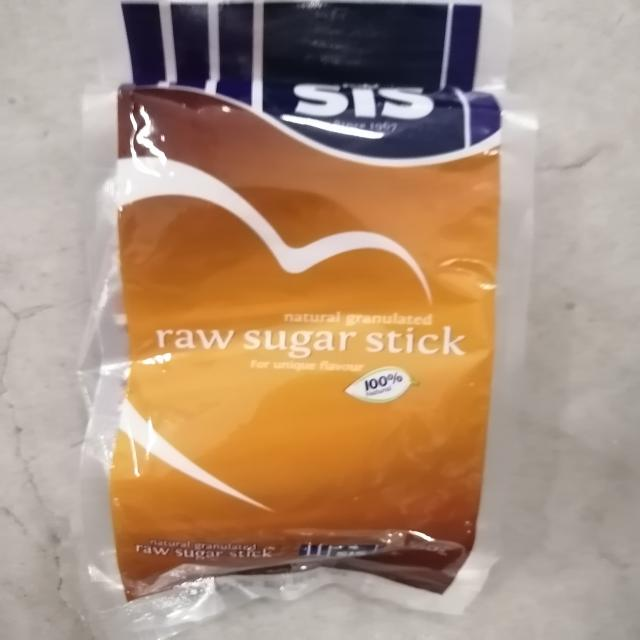object_name: (103, 17, 474, 592)
